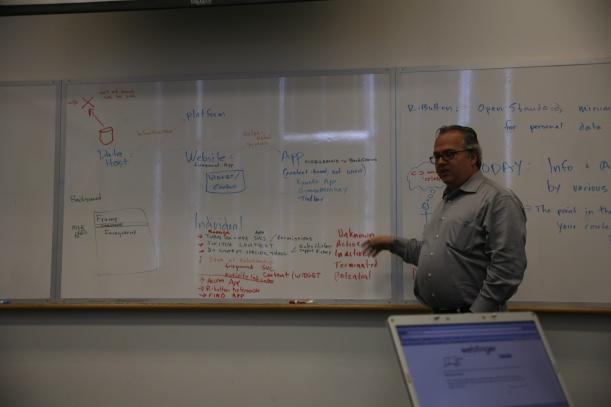Whiteboard: (53, 65, 397, 305), (395, 57, 610, 307)
